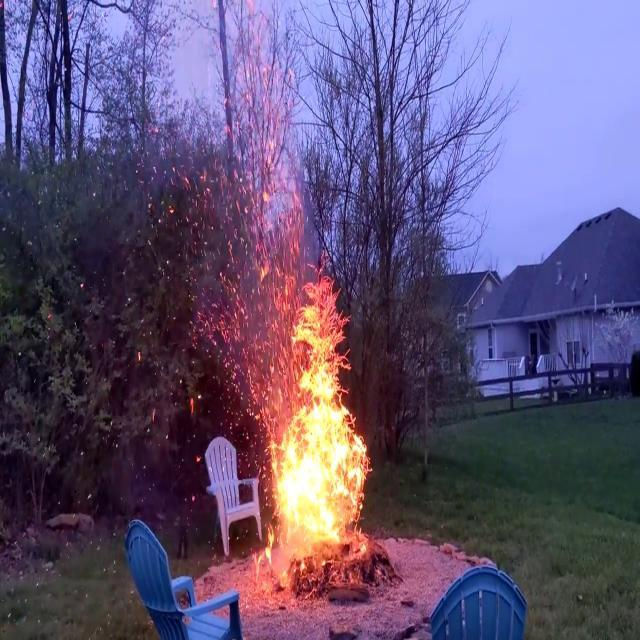Fire: (264, 270, 378, 552)
